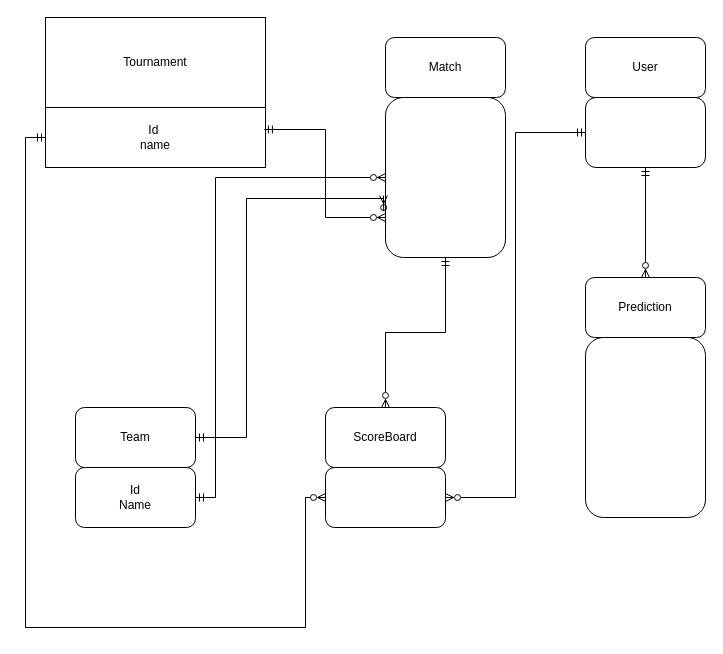
Some shapes in this 723 by 654 pixel diagram are drawn without their labels. The shapes that lost their labels are listed below. From the top down, each one's box as (x1, y1, x2, y2) in pixels, then its label:
(584, 96, 706, 168): ID UserName Password
(384, 96, 506, 258): ID Date tournamentId team1id team2id team1score team2score roundid
(584, 336, 706, 518): ID Team1Score Team2Score Points MatchId UserId
(324, 466, 446, 528): Id TournamentId UserId Score
